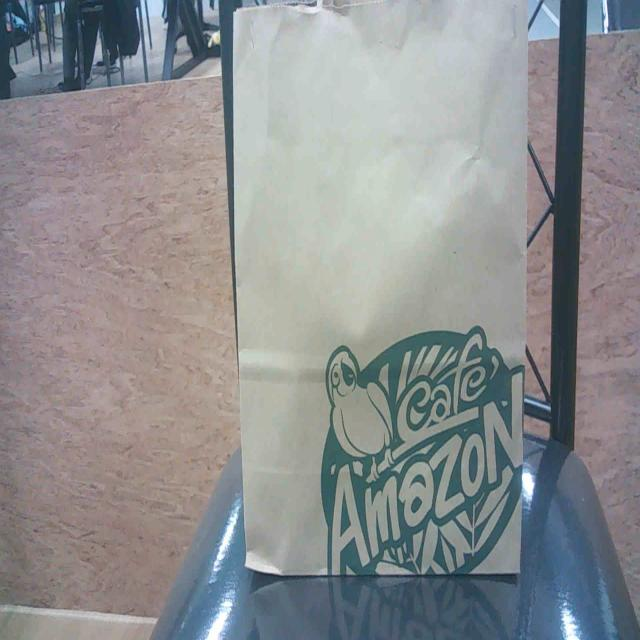bag: (240, 8, 529, 604)
